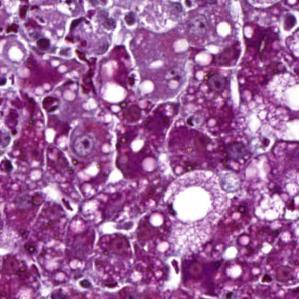ballooning: (161, 166, 233, 252)
